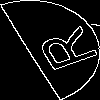R: (24, 25, 100, 78)
